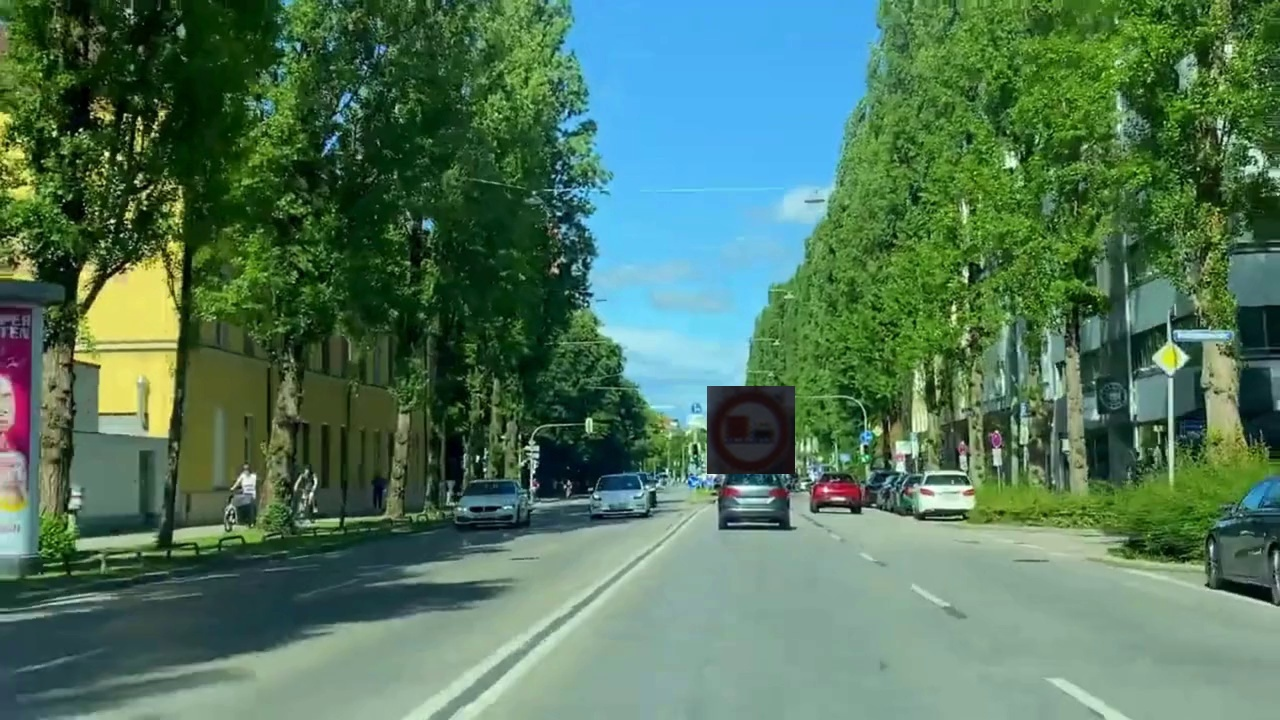No pass >3.5t: (707, 386, 795, 474)
